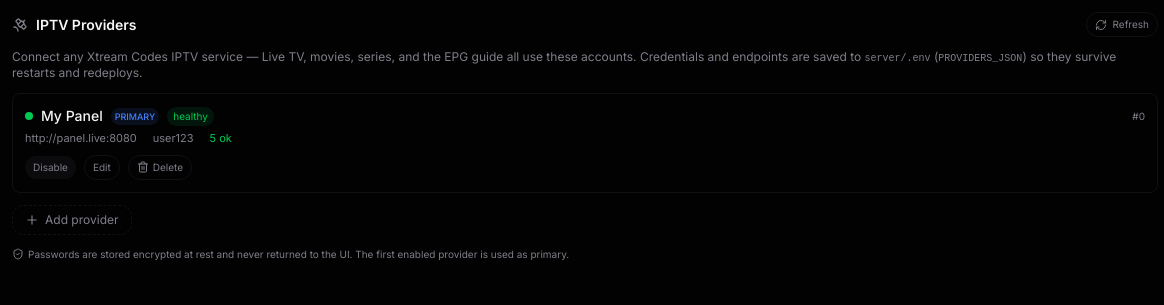
ProviderSettings › toggles a provider on/off
Expected: the text "Connect any Xtream Codes IPTV service" is shown, [12,49,861,64]
Click the button "Disable" at (50, 167), box [25,156,76,179]
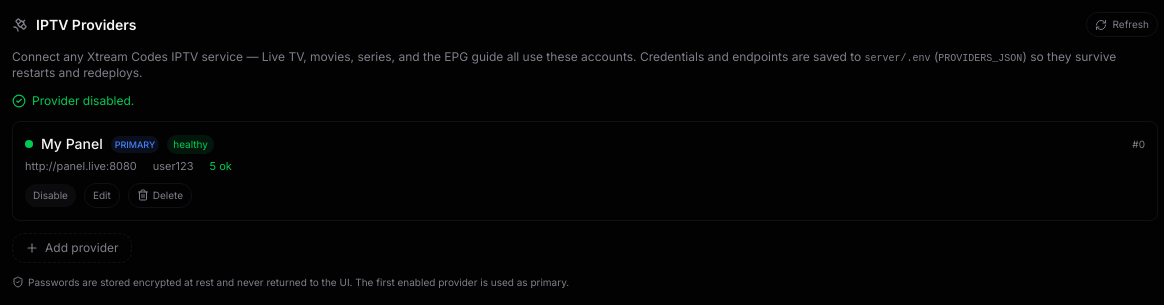
Now the text "Provider disabled." is shown, box [12,93,134,108]
